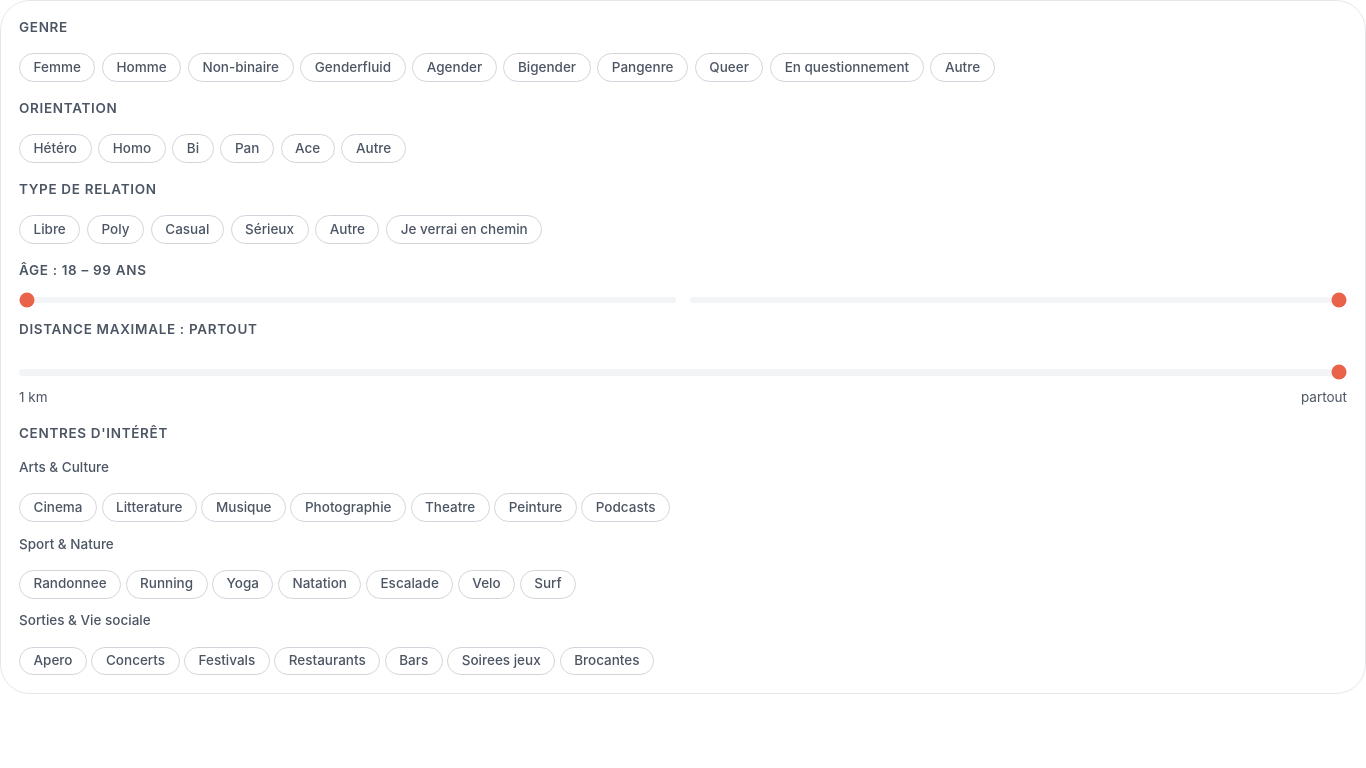
Test case: <SearchFilters /> — réciprocité (#519) › la porte « Sans filtre » referme sans rien écrire
Click the button "Femme" at (57, 68), box [19,53,95,82]
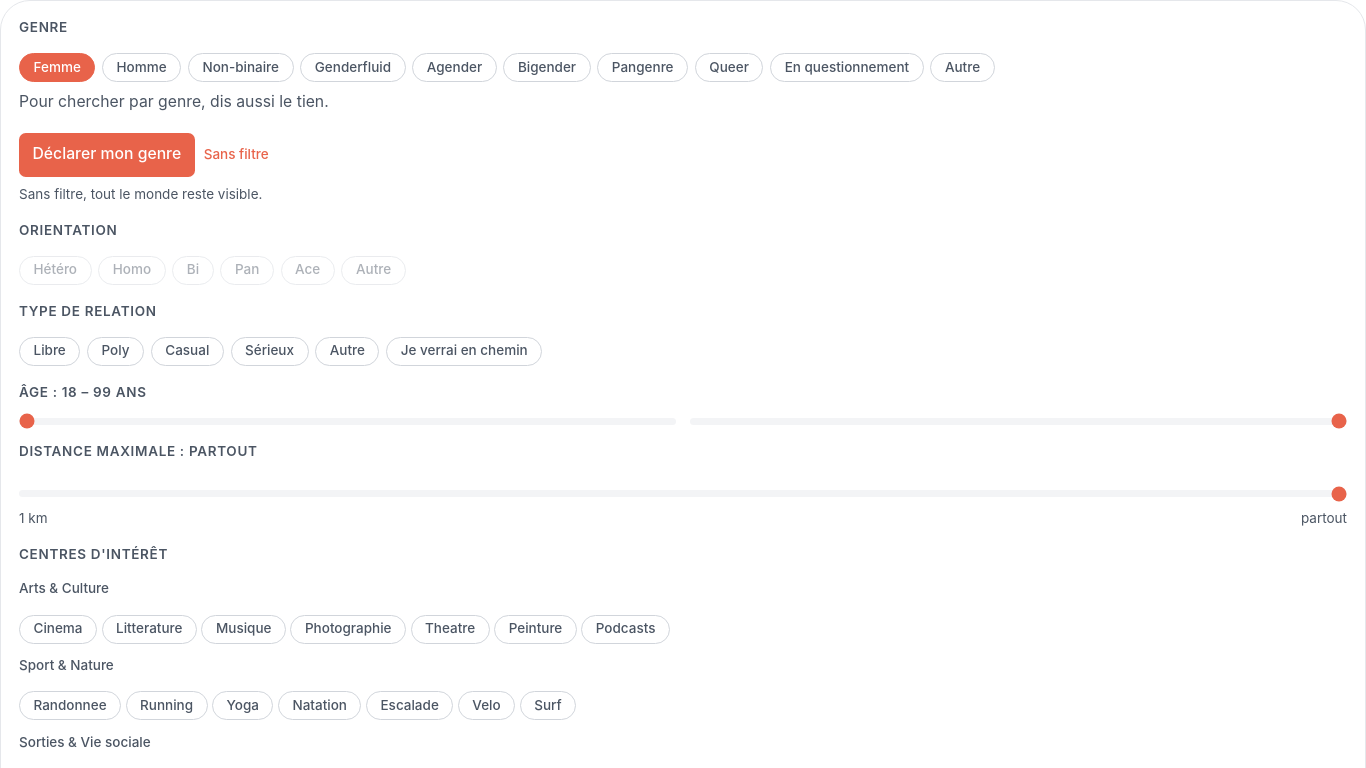
Click the button "Sans filtre" at (236, 154), box [204,132,269,176]
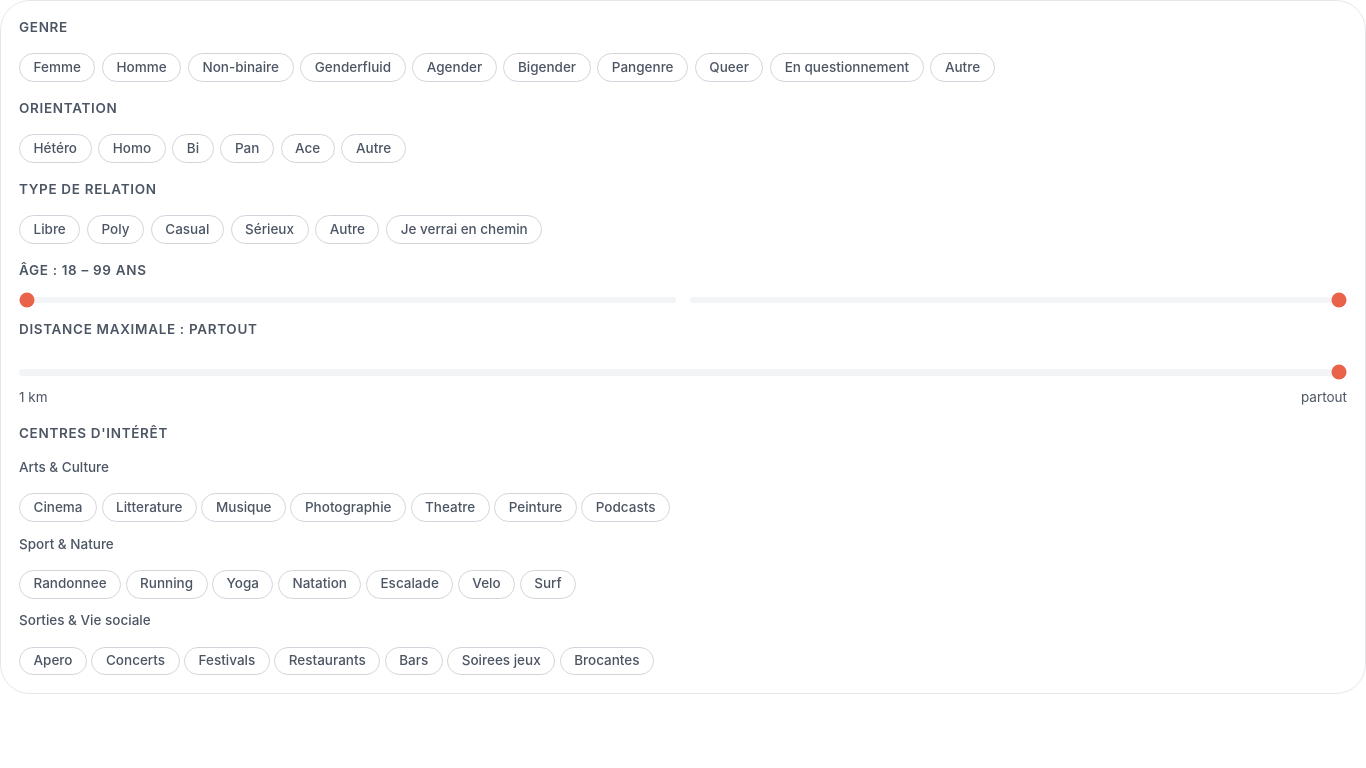
Now the text "Pour chercher par genre, dis aussi le tien." is gone
